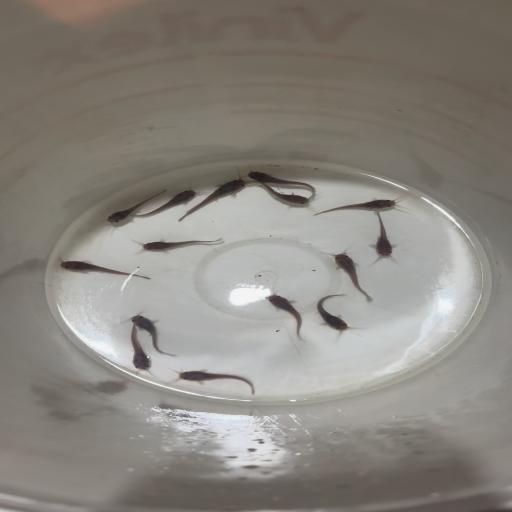lele: (178, 176, 248, 227), (252, 288, 308, 344), (166, 363, 258, 397), (327, 247, 376, 303), (102, 188, 168, 228), (311, 287, 361, 339), (242, 163, 323, 195), (130, 312, 187, 357), (309, 194, 411, 219), (361, 212, 406, 266), (135, 186, 201, 222), (56, 257, 151, 282), (242, 182, 314, 213), (119, 325, 163, 373), (130, 234, 224, 256)
